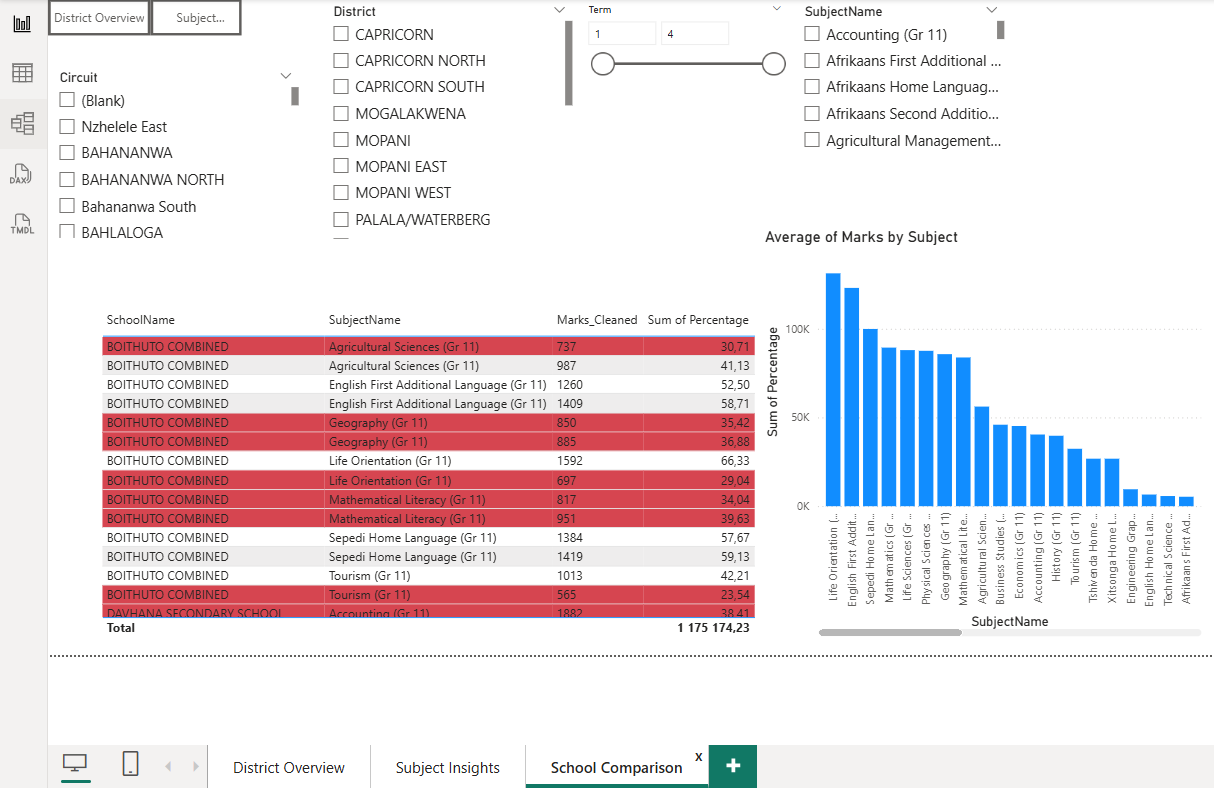

What the dashboard file says about the page in this screenshot:
{"tool":"powerbi","page":{"name":"School Comparison","canvas":[1280,720],"ordinal":2},"visuals":[{"type":"tableEx","fields":{"Values":["Sheet2.SchoolName","Sheet2.Name","Sheet2.Marks_Cleaned","Sum(Sheet2.Percentage)"]},"box":[53.8,336.3,823,368.1],"z":0},{"type":"clusteredColumnChart","title":"Average of Marks by Subject","fields":{"Category":["Sheet2.Name"],"Y":["Sum(Sheet2.Percentage)"]},"box":[782.6,250.7,489.1,453.7],"z":1000},{"type":"slicer","fields":{"Values":["Sheet2.Circuit"]},"box":[0,73.4,280,194.4],"z":2000},{"type":"slicer","fields":{"Values":["Sheet2.District"]},"box":[300.8,0,280,267.8],"z":3000},{"type":"slicer","fields":{"Values":["Sheet2.Term"]},"box":[580.8,0,237.2,108.8],"z":4000},{"type":"slicer","fields":{"Values":["Sheet2.Name"]},"box":[818.1,0,237.2,171.2],"z":5000},{"type":"actionButton","box":[0,0,112.5,40.4],"z":6000},{"type":"actionButton","box":[112.5,0,100.3,40.4],"z":7000}]}

Visuals, with their boxes on the page's 1280x720 design canvas (x1, y1, x2, y2). These are canvas units, not pixel positions in the 1214x788 screenshot, which may show the page scaled, cropped or inside an application window:
tableEx - Sheet2.SchoolName x Sheet2.Name: 54 336 877 704
"Average of Marks by Subject" clusteredColumnChart: 783 251 1272 704
slicer - Sheet2.Circuit: 0 73 280 268
slicer - Sheet2.District: 301 0 581 268
slicer - Sheet2.Term: 581 0 818 109
slicer - Sheet2.Name: 818 0 1055 171
actionButton: 0 0 112 40
actionButton: 112 0 213 40
